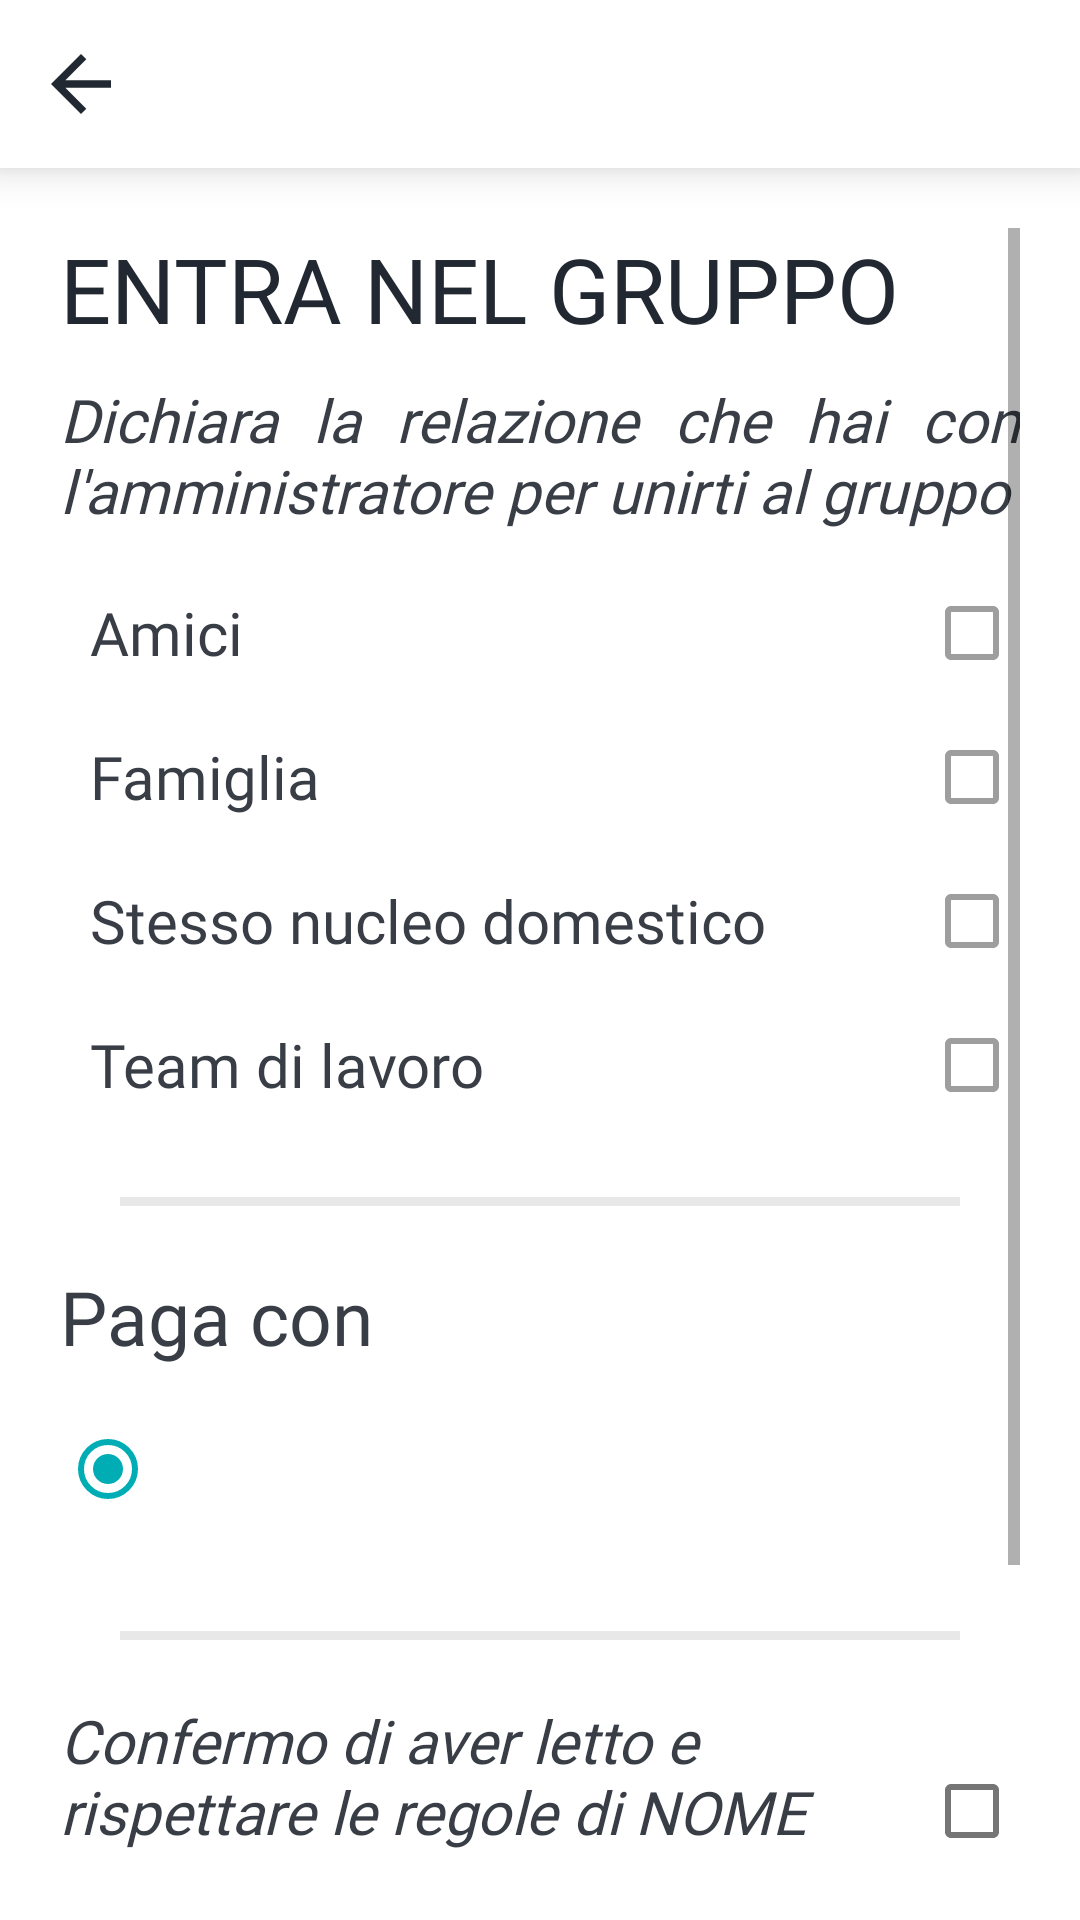

Point at icon controls on the screen. Image size 1080 × 1920, points as (x,y).
arrow back: (81,84)
